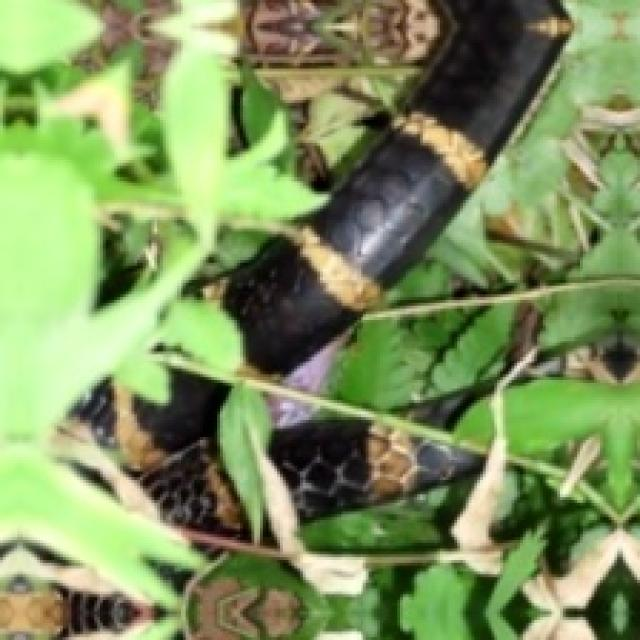king cobra: (0, 0, 569, 637), (66, 357, 294, 566), (366, 411, 474, 494)
